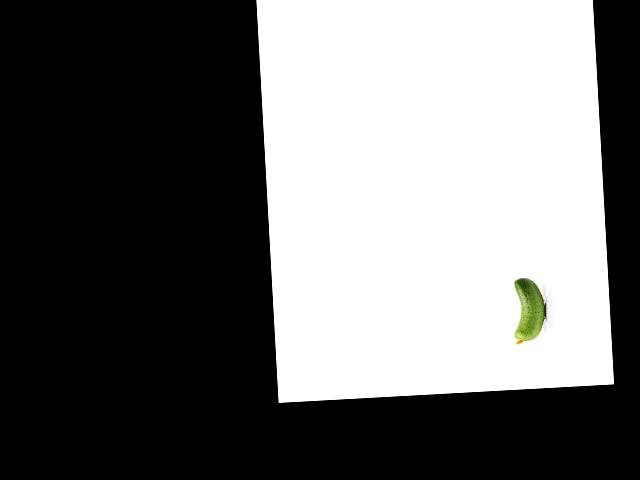cucumber: (511, 276, 547, 344)
